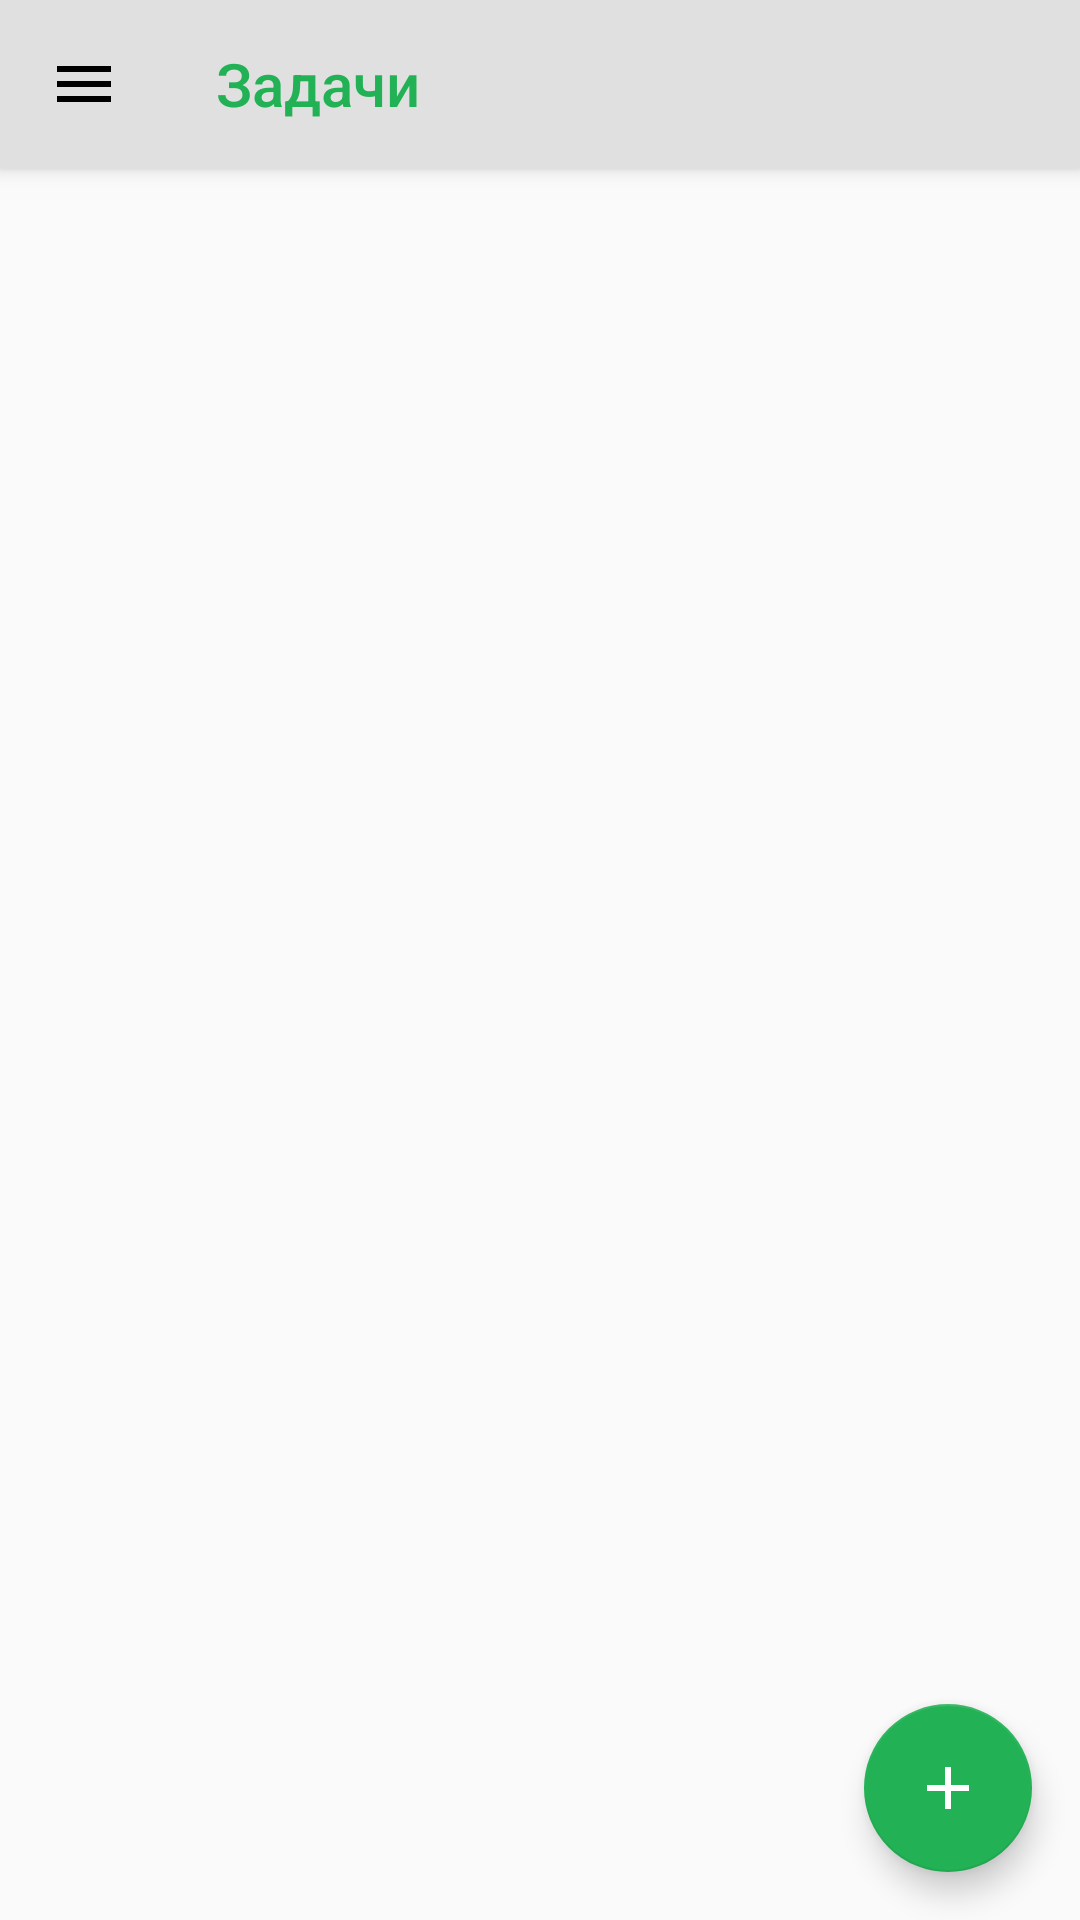

Locate icon controls on the screen. Image size 1080 × 1920, boxes as region(x1, y1, x2, y2).
fab: region(864, 1704, 1032, 1872)
